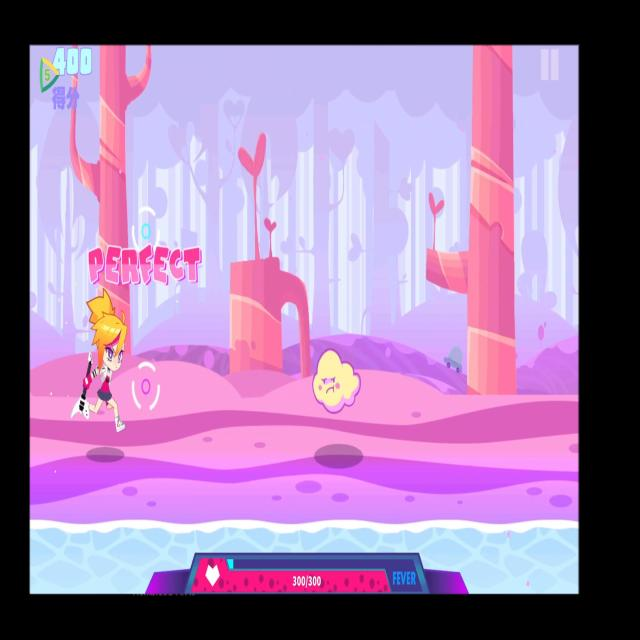Ground Monster - yellow Cloud: (305, 334, 371, 426)
